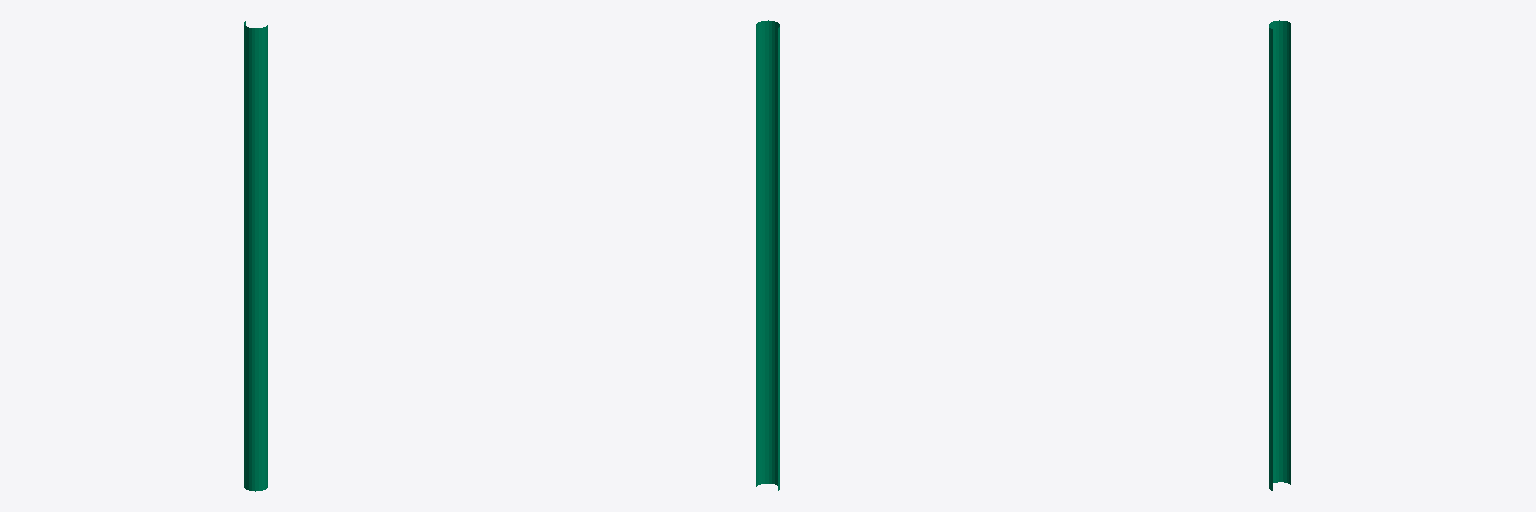
URDF robot description (partnet_5693b4c7ce703bf35d1b6bffd4f70f9a):
<?xml version="1.0" ?>
<robot name="partnet_5693b4c7ce703bf35d1b6bffd4f70f9a">
	<link name="base"/>
	<link name="link_0">
		<visual name="button-1">
			<origin xyz="-0.007537775917565718 0.3894238137130928 -0.1591458452466028"/>
			<geometry>
				<mesh filename="textured_objs/original-3.obj"/>
			</geometry>
		</visual>
		<collision>
			<origin xyz="-0.007537775917565718 0.3894238137130928 -0.1591458452466028"/>
			<geometry>
				<mesh filename="textured_objs/original-3.obj"/>
			</geometry>
		</collision>
	</link>
	<joint name="joint_0" type="fixed">
		<origin xyz="0.007537775917565718 -0.3894238137130928 0.1591458452466028"/>
		<axis xyz="0 0.3782990866343233 0.9256834237749084"/>
		<child link="link_0"/>
		<parent link="link_2"/>
	</joint>
	<link name="link_1">
		<visual name="slider-2">
			<origin xyz="0 0 0"/>
			<geometry>
				<mesh filename="textured_objs/original-1.obj"/>
			</geometry>
		</visual>
		<collision>
			<origin xyz="0 0 0"/>
			<geometry>
				<mesh filename="textured_objs/original-1.obj"/>
			</geometry>
		</collision>
	</link>
	<joint name="joint_1" type="prismatic">
		<origin xyz="0 0 0"/>
		<axis xyz="0 -1 0"/>
		<child link="link_1"/>
		<parent link="link_2"/>
		<limit effort="100.0" velocity="1.0" lower="0" upper="0.41999999999999993"/>
	</joint>
	<link name="link_2">
		<visual name="base_body-3">
			<origin xyz="0 0 0"/>
			<geometry>
				<mesh filename="textured_objs/original-4.obj"/>
			</geometry>
		</visual>
		<visual name="base_body-3">
			<origin xyz="0 0 0"/>
			<geometry>
				<mesh filename="textured_objs/original-5.obj"/>
			</geometry>
		</visual>
		<visual name="base_body-3">
			<origin xyz="0 0 0"/>
			<geometry>
				<mesh filename="textured_objs/original-6.obj"/>
			</geometry>
		</visual>
		<visual name="base_body-3">
			<origin xyz="0 0 0"/>
			<geometry>
				<mesh filename="textured_objs/original-7.obj"/>
			</geometry>
		</visual>
		<collision>
			<origin xyz="0 0 0"/>
			<geometry>
				<mesh filename="textured_objs/original-4.obj"/>
			</geometry>
		</collision>
		<collision>
			<origin xyz="0 0 0"/>
			<geometry>
				<mesh filename="textured_objs/original-5.obj"/>
			</geometry>
		</collision>
		<collision>
			<origin xyz="0 0 0"/>
			<geometry>
				<mesh filename="textured_objs/original-6.obj"/>
			</geometry>
		</collision>
		<collision>
			<origin xyz="0 0 0"/>
			<geometry>
				<mesh filename="textured_objs/original-7.obj"/>
			</geometry>
		</collision>
	</link>
	<joint name="joint_2" type="fixed">
		<origin rpy="1.570796326794897 0 -1.570796326794897" xyz="0 0 0"/>
		<child link="link_2"/>
		<parent link="base"/>
	</joint>
</robot>

--- Facts derived from the render (not from the file) ---
Views: 3 orthographic renders of the robot side by side, from view 1: azimuth 30°, elevation 25°; view 2: azimuth 210°, elevation 25°; view 3: azimuth 270°, elevation 25°.
Model partnet_5693b4c7ce703bf35d1b6bffd4f70f9a with 4 links and 3 joints (1 prismatic, 2 fixed), rooted at base, posed all joints at 0.
Links seen in each view (by area): view 1: link_1; view 2: link_1; view 3: link_1.
Boxes of the visible links, left/top/right/bottom form: link_1: left=244, top=21, right=267, bottom=491; link_1: left=756, top=20, right=779, bottom=490; link_1: left=1269, top=20, right=1290, bottom=490.
Size in the robot's own frame: 0.0563 by 0.0593 by 1.31 metres.
Meshes: 6 distinct files referenced, 1 mesh visuals loaded (1 OBJ); not drawn: 5 (reference not matched to a file when rendering).